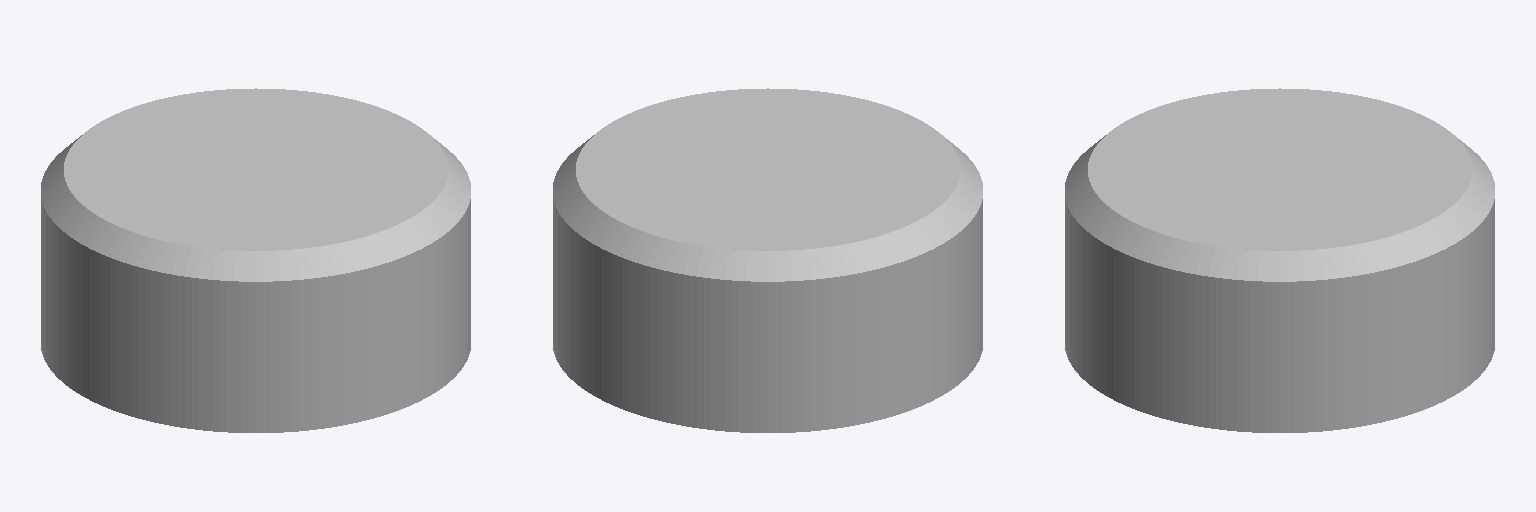
File: meshbody39_rviz_sprocket.obj
3 renders of one model, left to right at view 1: azimuth 30°, elevation 25°; view 2: azimuth 150°, elevation 25°; view 3: azimuth 270°, elevation 25°, orthographic.
Visible parts, largest first — view 1: meshbody39_rviz_sprocket\Facets; view 2: meshbody39_rviz_sprocket\Facets; view 3: meshbody39_rviz_sprocket\Facets.
Boxes of the visible parts, box(x1,y1,x2,y2) form: meshbody39_rviz_sprocket\Facets: box(41, 88, 470, 432); meshbody39_rviz_sprocket\Facets: box(553, 88, 982, 432); meshbody39_rviz_sprocket\Facets: box(1065, 88, 1494, 432).
Bounding box in the file's own units: 0.4719 × 0.2085 × 0.4719.